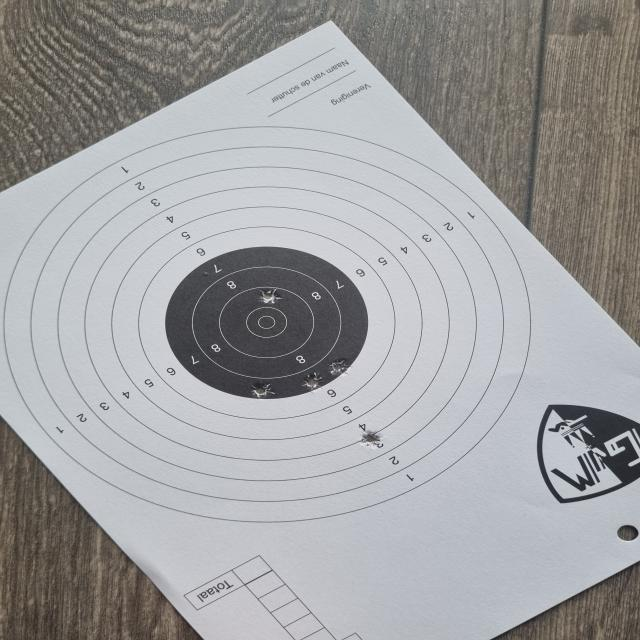10: (258, 288, 282, 304)
5: (360, 432, 386, 449)
8: (302, 373, 326, 391), (252, 383, 274, 398), (330, 360, 352, 375)
Black Contour: (167, 246, 370, 401)
Target: (3, 126, 532, 523)
